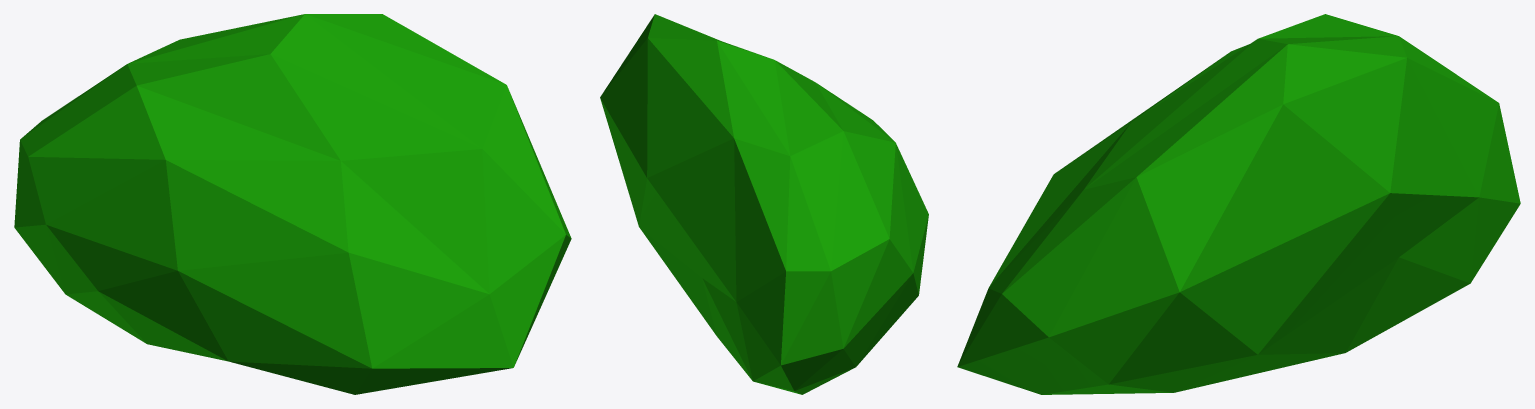
Rendered from Bush 2.fbx.
3 views of the same model, side by side, from view 1: azimuth 30°, elevation 25°; view 2: azimuth 150°, elevation 25°; view 3: azimuth 270°, elevation 25° (orthographic). The views are drawn at different scales.
Parts seen in each view (by area): view 1: Bush2; view 2: Bush2; view 3: Bush2.
Boxes of the visible parts, box(x1,y1,x2,y2) form: Bush2: box(14, 14, 571, 394); Bush2: box(600, 14, 928, 394); Bush2: box(957, 14, 1520, 394).
Size of the model in its own units: 1.72 by 1.26 by 1.85.
